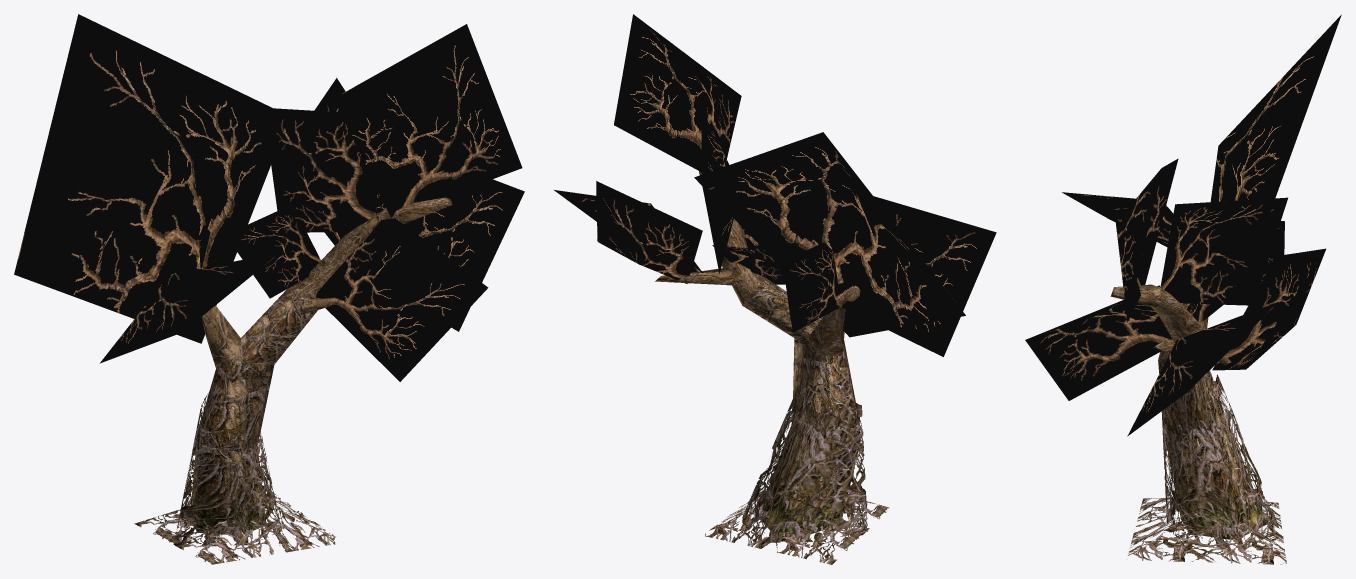
The model's file is w_cd_hotree01.glb.
3 renders of one model, left to right at view 1: azimuth 30°, elevation 25°; view 2: azimuth 150°, elevation 25°; view 3: azimuth 270°, elevation 25°, orthographic. The views are drawn at different scales.
Parts seen in each view (by area): view 1: w_cd_hotree01_al02, w_cd_hotree01, w_cd_hotree01_al01; view 2: w_cd_hotree01_al02, w_cd_hotree01, w_cd_hotree01_al01; view 3: w_cd_hotree01_al02, w_cd_hotree01_al01, w_cd_hotree01.
Boxes of the visible parts, bbox=[...] form: w_cd_hotree01_al02: bbox=[14, 14, 524, 381]; w_cd_hotree01: bbox=[191, 197, 452, 534]; w_cd_hotree01_al01: bbox=[134, 393, 335, 564]; w_cd_hotree01_al02: bbox=[554, 14, 996, 356]; w_cd_hotree01: bbox=[655, 171, 861, 534]; w_cd_hotree01_al01: bbox=[705, 381, 888, 564]; w_cd_hotree01_al02: bbox=[1025, 14, 1341, 436]; w_cd_hotree01_al01: bbox=[1128, 374, 1286, 564]; w_cd_hotree01: bbox=[1110, 284, 1266, 539].
Size of the model in its own units: 30.45 by 30.06 by 18.07.
Materials: 5 (5 with a texture image).
